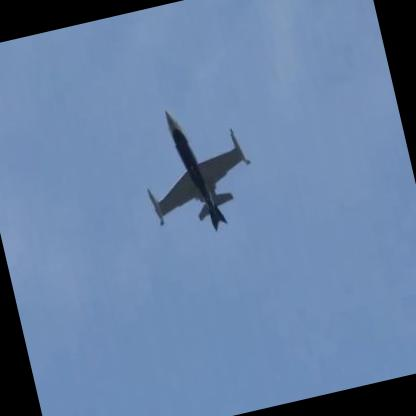plane: (128, 95, 267, 247)
